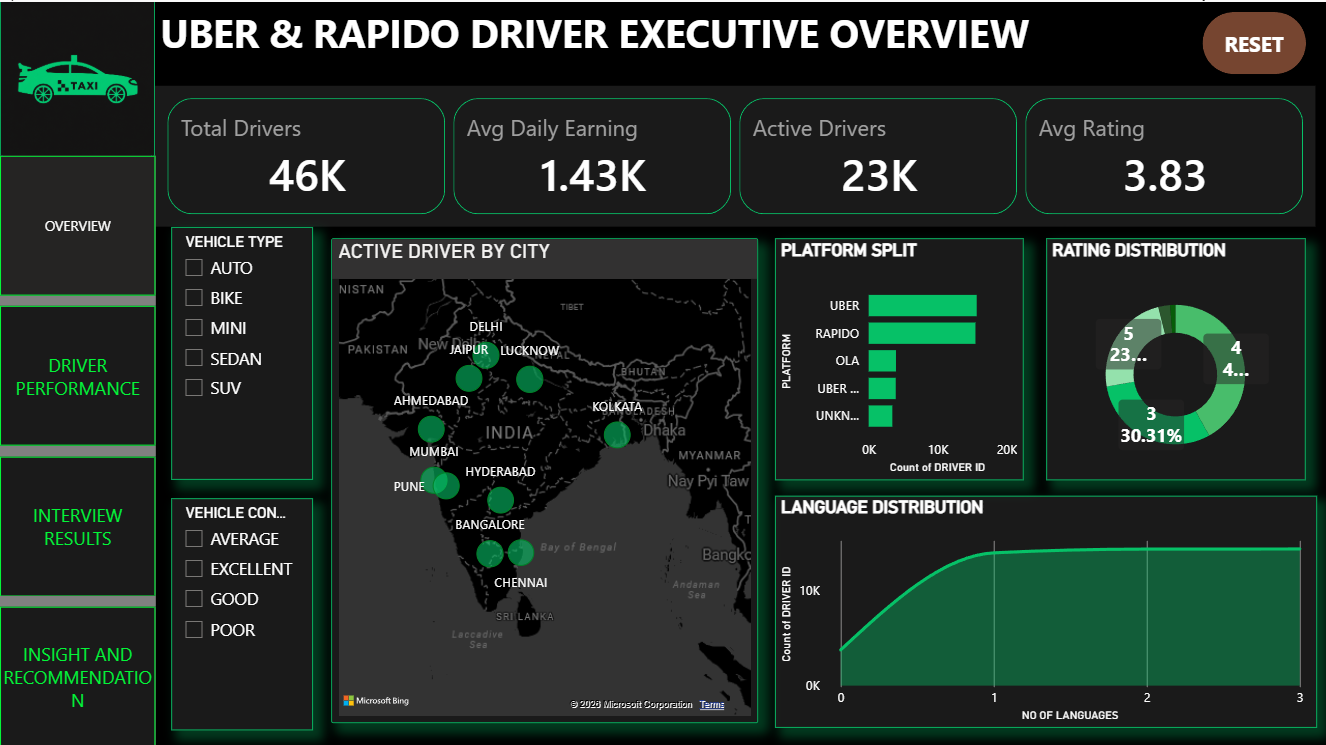

Layout of this report page (visuals, bound fields, positions):
{"tool":"powerbi","page":{"name":"OVERVIEW","canvas":[1280,720],"ordinal":0},"visuals":[{"type":"cardVisual","fields":{"Data":["measure.Total Drivers","measure.Avg Daily Earning","measure.Active Drivers","measure.Avg Overall Driving Rating"]},"box":[150,80.7,1122,136],"z":0},{"type":"shape","box":[0,0,149.2,716.4],"z":1000},{"type":"donutChart","title":"RATING DISTRIBUTION","fields":{"Y":["CountNonNull(CLEANED UBER DRIVER DATASET.DRIVER ID)"],"Category":["CLEANED UBER DRIVER DATASET.OVERALL DRIVING RATING"]},"box":[1010,228.3,250,233.3],"z":2000},{"type":"textbox","box":[150,0,860,80],"z":3000},{"type":"areaChart","title":"LANGUAGE DISTRIBUTION","fields":{"Y":["CountNonNull(CLEANED UBER DRIVER DATASET.DRIVER ID)"],"Category":["CLEANED UBER DRIVER DATASET.NO OF LANGUAGES"]},"box":[748.3,476.7,522.9,224.3],"z":4000},{"type":"slicer","fields":{"Values":["CLEANED UBER DRIVER DATASET.VEHICLE TYPE"]},"box":[165.7,217.1,137.1,244.3],"z":5000},{"type":"slicer","fields":{"Values":["CLEANED UBER DRIVER DATASET.VEHICLE CONDITION"]},"box":[165.7,478.6,137.1,224.3],"z":6000},{"type":"map","title":"ACTIVE DRIVER BY CITY","fields":{"Category":["CLEANED UBER DRIVER DATASET.CITY"],"Size":["CountNonNull(CLEANED UBER DRIVER DATASET.IS CURRENTLY ACTIVE)"]},"box":[320,228.3,411.7,468.3],"z":7000},{"type":"barChart","title":"PLATFORM SPLIT","fields":{"Category":["CLEANED UBER DRIVER DATASET.PLATFORM"],"Y":["CountNonNull(CLEANED UBER DRIVER DATASET.DRIVER ID)"]},"box":[748.3,228.3,240,233.3],"z":8000},{"type":"actionButton","box":[1160,10,100,60],"z":8001},{"type":"pageNavigator","box":[0,148.3,150,571.7],"z":8002},{"type":"image","box":[0,0,150,148.3],"z":8003}]}

Visuals, with their boxes in screenshot pixels (x1, y1, x2, y2), scaled from the page's 1280x720 canvas onto the 1326x745 screenshot:
cardVisual - measure.Total Drivers x measure.Avg Daily Earning: rect(155, 84, 1318, 224)
shape: rect(0, 0, 155, 741)
"RATING DISTRIBUTION" donutChart: rect(1046, 236, 1305, 478)
textbox: rect(155, 0, 1046, 83)
"LANGUAGE DISTRIBUTION" areaChart: rect(775, 493, 1317, 725)
slicer - CLEANED UBER DRIVER DATASET.VEHICLE TYPE: rect(172, 225, 314, 477)
slicer - CLEANED UBER DRIVER DATASET.VEHICLE CONDITION: rect(172, 495, 314, 727)
"ACTIVE DRIVER BY CITY" map: rect(332, 236, 758, 721)
"PLATFORM SPLIT" barChart: rect(775, 236, 1024, 478)
actionButton: rect(1202, 10, 1305, 72)
pageNavigator: rect(0, 153, 155, 744)
image: rect(0, 0, 155, 153)
